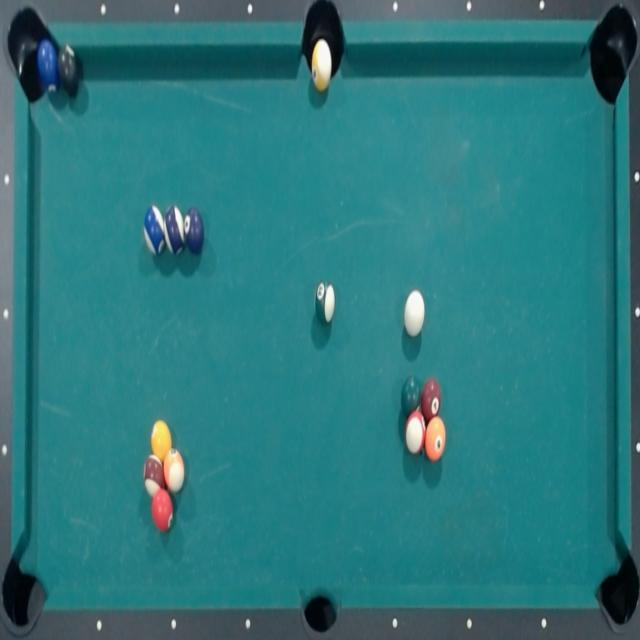black_8ball: (57, 43, 79, 97)
blue_solid: (36, 37, 58, 94)
blue_stripe: (143, 204, 164, 257)
cue_ball: (401, 288, 426, 338)
green_solid: (400, 374, 422, 419)
green_stripe: (313, 278, 337, 325)
maroon_solid: (420, 377, 442, 422)
maroon_stripe: (144, 453, 164, 498)
orange_solid: (424, 418, 446, 464)
orange_stripe: (162, 447, 185, 492)
purple_solid: (183, 207, 204, 254)
purple_stripe: (163, 206, 184, 256)
red_solid: (151, 488, 173, 532)
red_stripe: (402, 409, 427, 455)
yellow_solid: (150, 418, 172, 462)
yellow_stripe: (308, 36, 334, 93)
